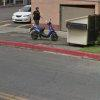Motorcycle: (24, 20, 61, 44)
